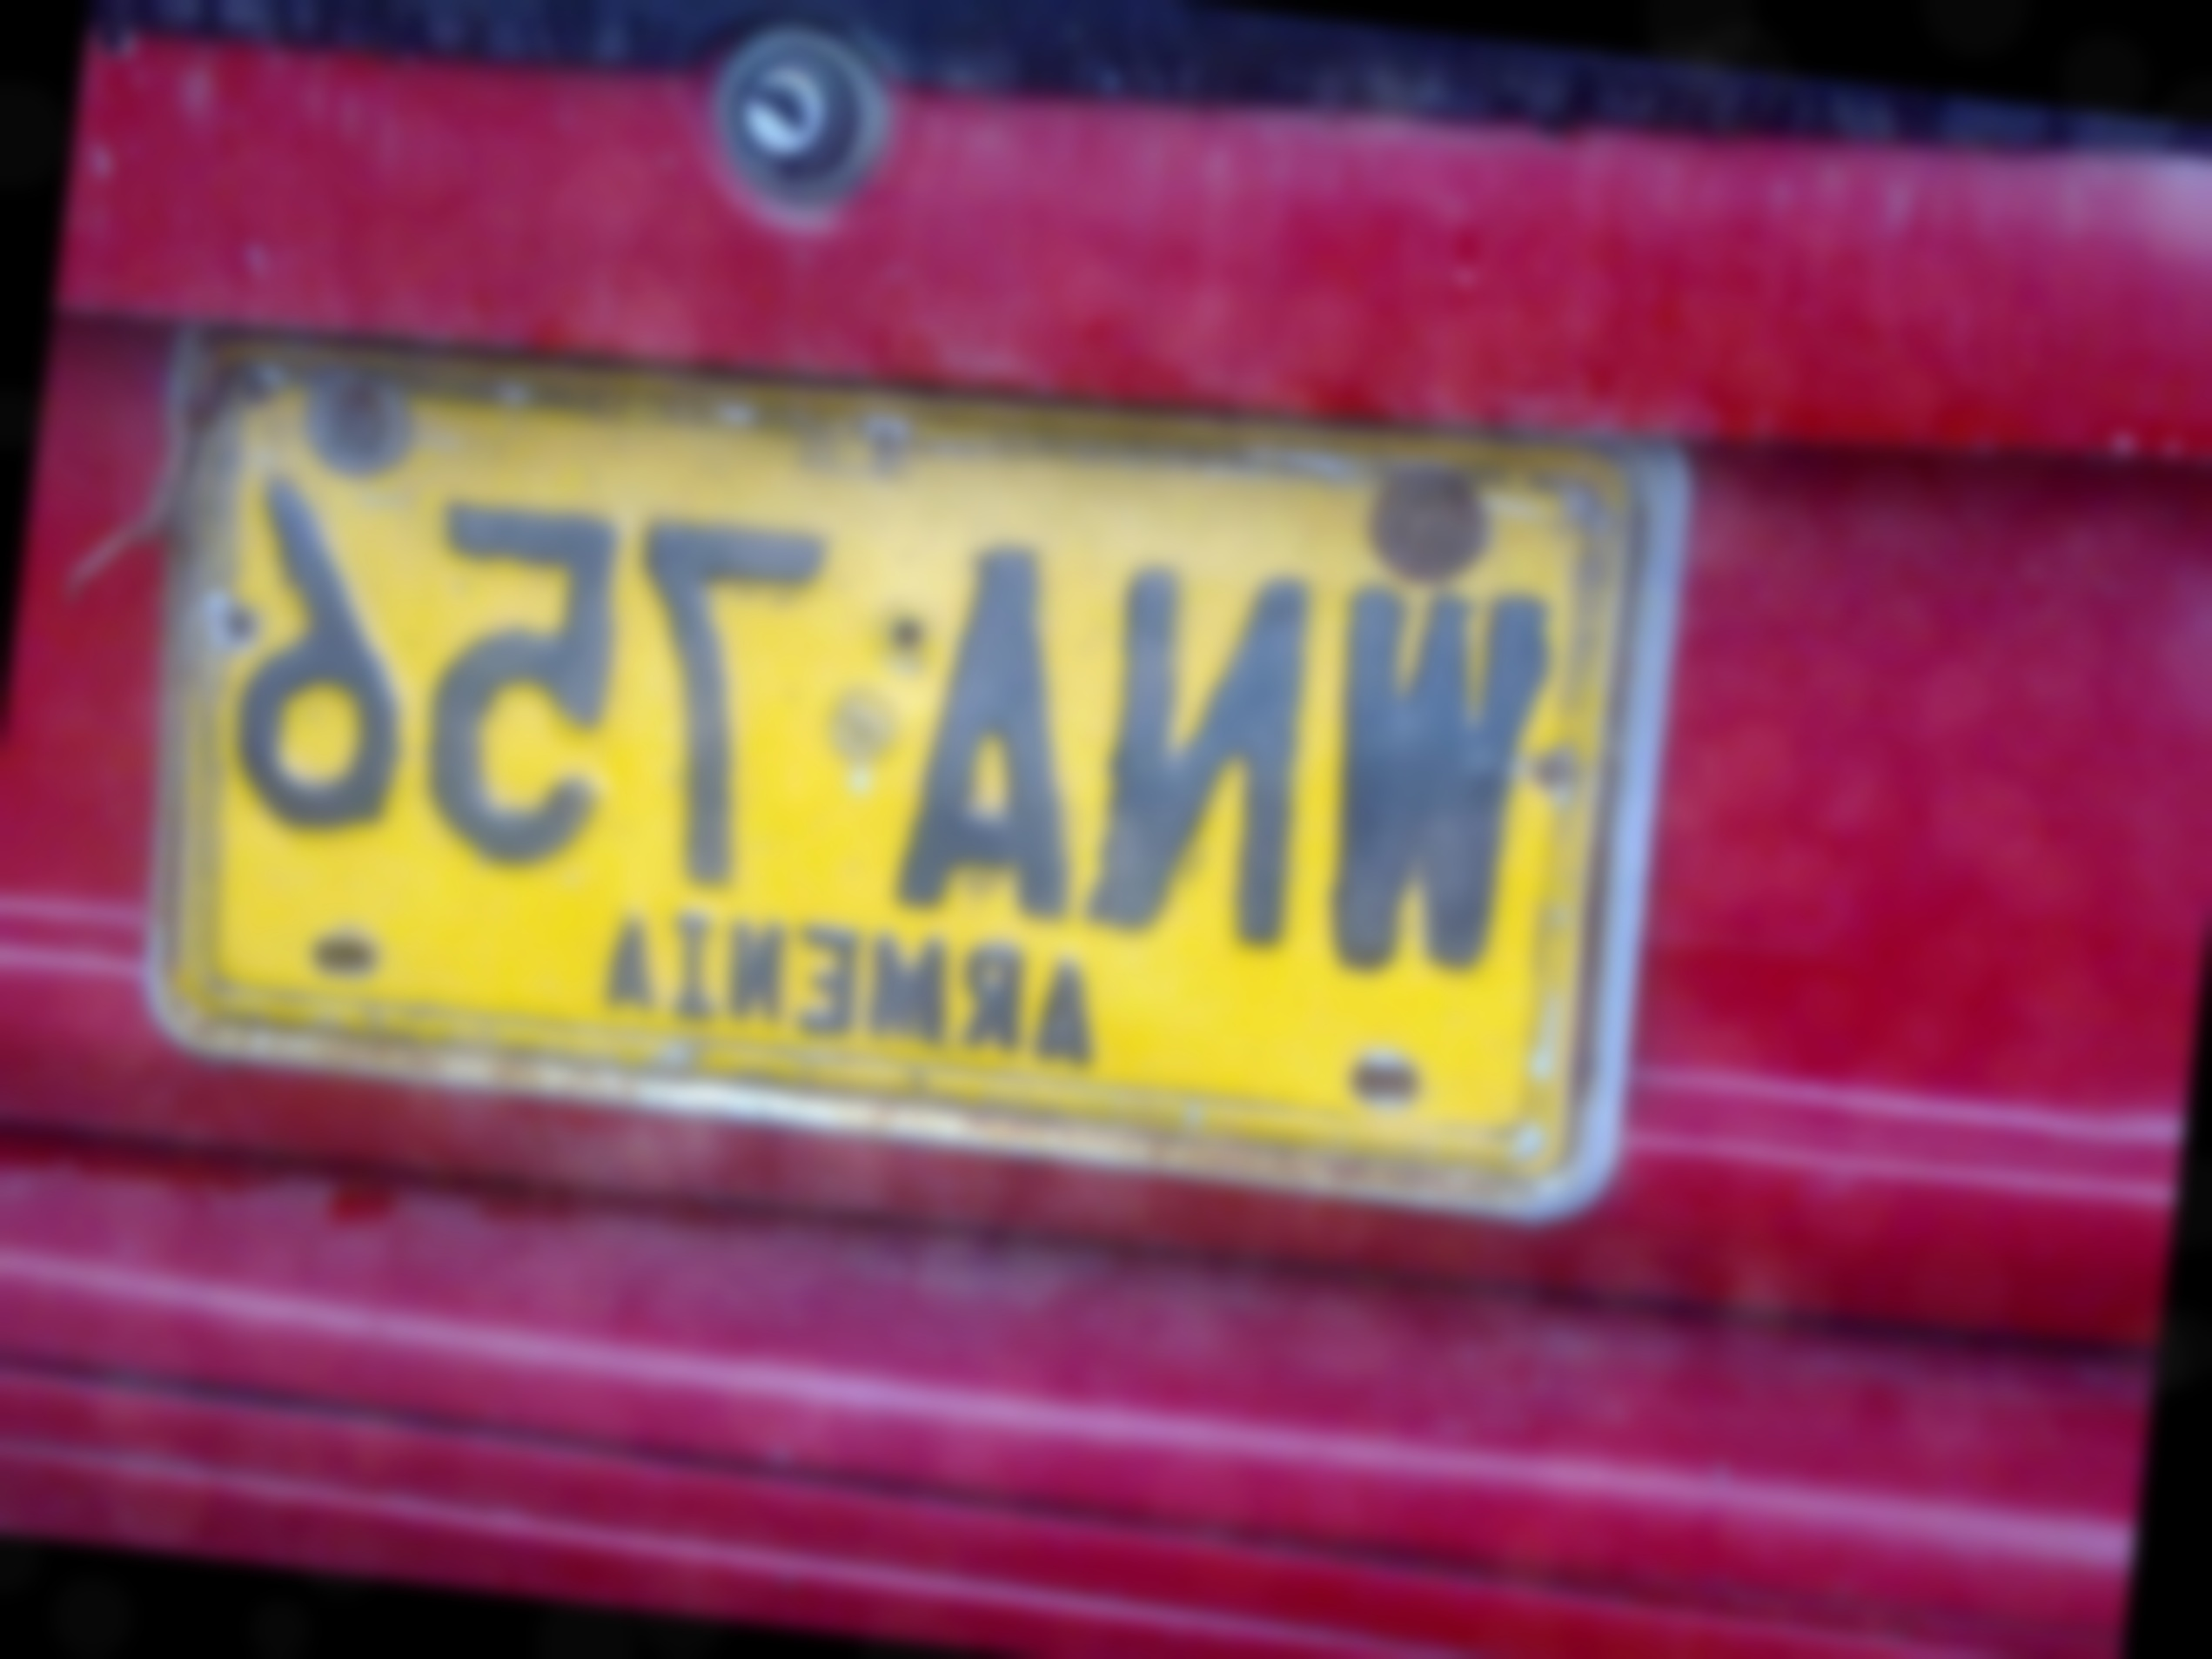placas: (114, 240, 1712, 1237)
